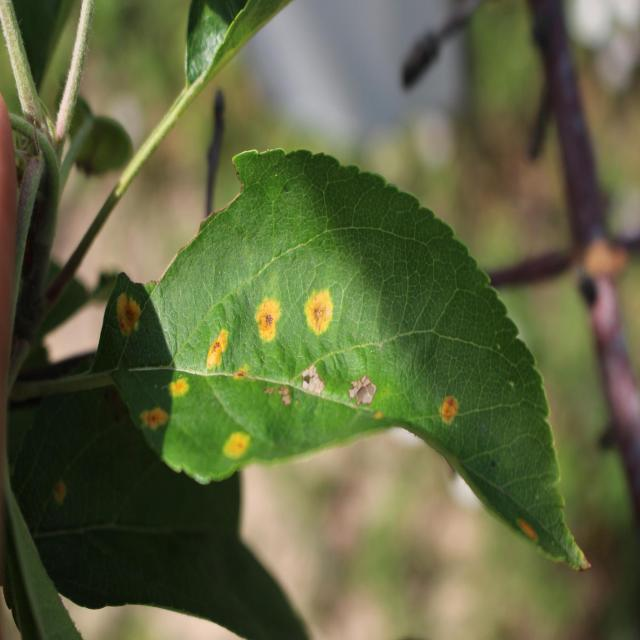Black Rot: (294, 354, 330, 410), (349, 370, 378, 413)
Rust: (298, 274, 342, 343), (106, 280, 148, 352), (248, 288, 286, 355), (213, 424, 258, 470), (202, 319, 232, 375), (142, 399, 177, 445), (164, 366, 196, 406), (512, 508, 538, 548), (439, 393, 464, 433), (369, 402, 386, 434), (233, 364, 250, 388)
